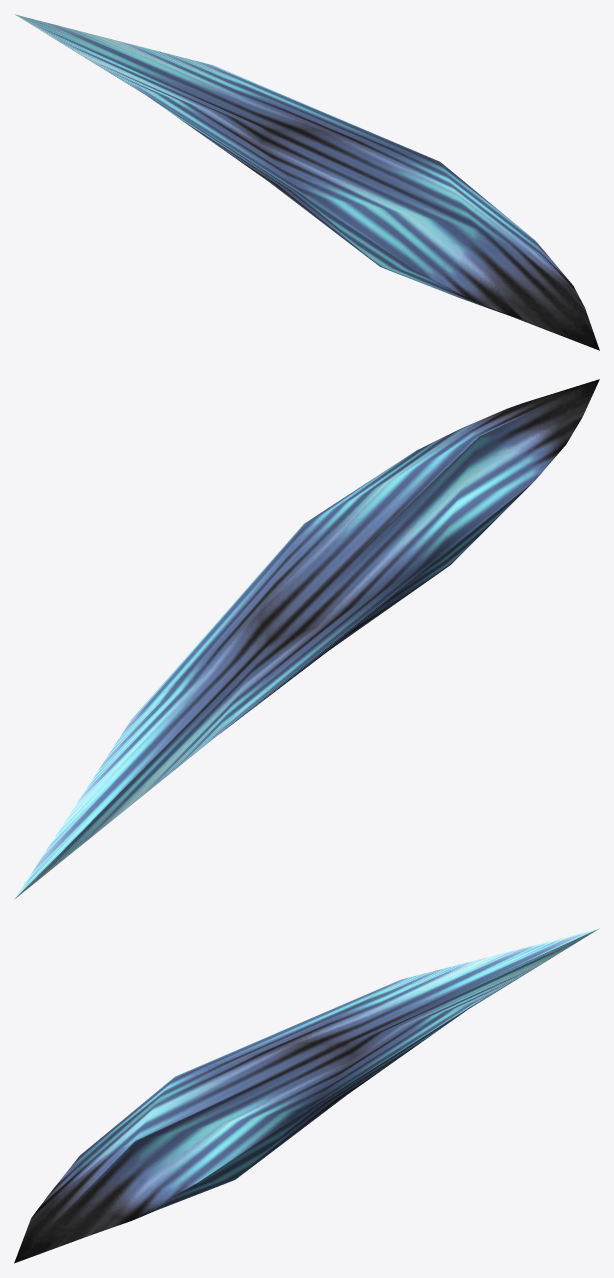
Rendered from CTorch.obj.
The picture shows the model from 3 angles, top to bottom: view 1: azimuth 30°, elevation 25°; view 2: azimuth 150°, elevation 25°; view 3: azimuth 330°, elevation 25°; orthographic projection.
Size of the model in its own units: 0.8199 by 0.7265 by 6.16.
1 material, 1 textured.
